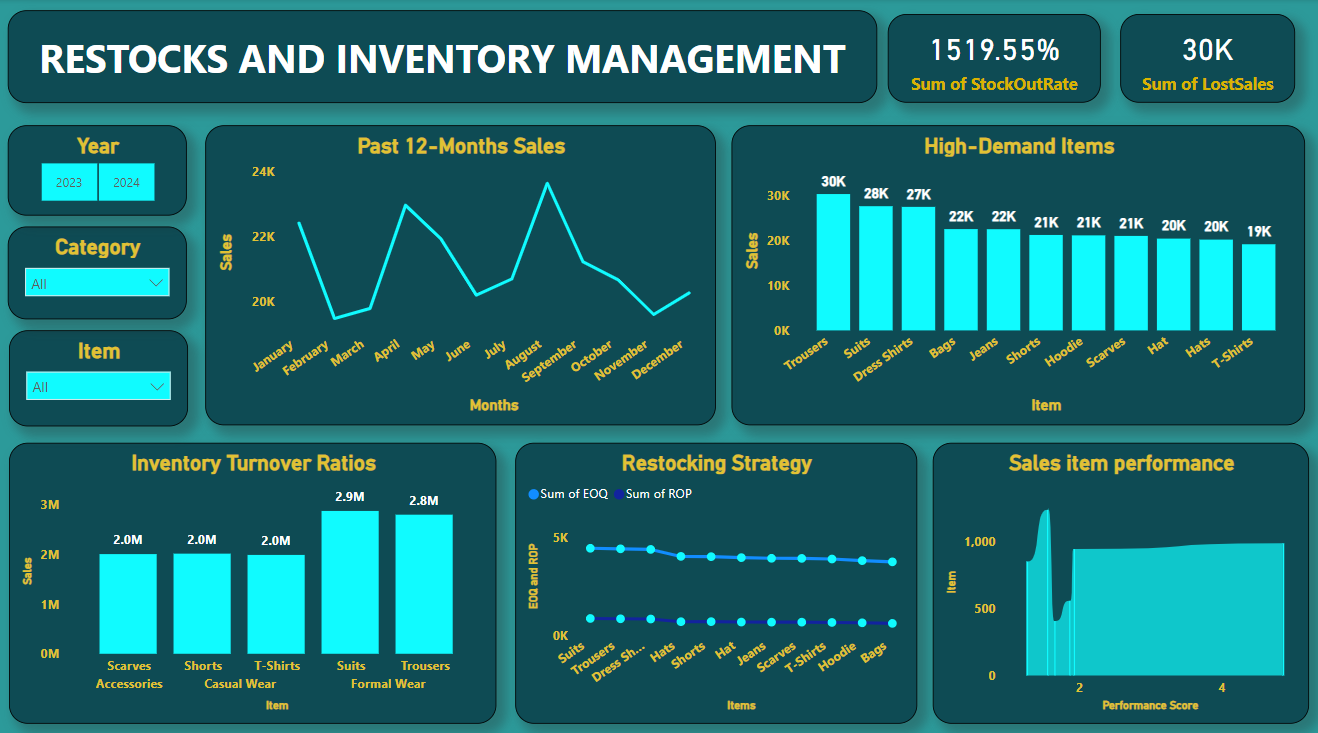

The dashboard page shown, as its layout file describes it:
{"tool":"powerbi","page":{"name":"RESTOCKS AND INVENTORY MANAGEMENT","canvas":[1280,720],"ordinal":0},"visuals":[{"type":"textbox","box":[8.6,11,838.9,89.3],"z":0},{"type":"columnChart","title":"High-Demand Items","fields":{"Category":["cost_data.Item"],"Y":["Sum(sales_data.SalesQuantity)"]},"box":[706.8,122.3,553.9,289.8],"z":1000},{"type":"lineChart","title":"Past 12-Months Sales","fields":{"Category":["sales_data.Date.Variation.Date Hierarchy.Month"],"Y":["Sum(sales_data.SalesQuantity)"]},"box":[199.3,122.3,492.8,289.8],"z":2000},{"type":"card","fields":{"Values":["Sum(forecasted_demand.StockOutRate)"]},"box":[857.2,14.7,205.4,85.6],"z":3000},{"type":"card","fields":{"Values":["Sum(forecasted_demand.LostSales)"]},"box":[1082.2,14.7,168.8,85.6],"z":4000},{"type":"columnChart","title":"Inventory Turnover Ratios","fields":{"Category":["sales_data.Category","sales_data.Item"],"Y":["Sum(sales_data.InventoryTurnoverRatio)"]},"box":[9.8,428,470.8,271.5],"z":5000},{"type":"lineChart","title":"Restocking Strategy","fields":{"Category":["forecasted_demand.Item"],"Y":["Sum(forecasted_demand.EOQ)","Sum(forecasted_demand.ROP)"]},"box":[497.7,428,387.6,271.5],"z":6000},{"type":"slicer","title":"Item","fields":{"Values":["sales_data.Item"]},"box":[9.8,319.2,172.4,92.9],"z":7000},{"type":"slicer","title":"Category","fields":{"Values":["sales_data.Category"]},"box":[8.6,220.1,172.4,89.3],"z":8000},{"type":"slicer","title":"Year","fields":{"Values":["forecasted_demand.Date.Variation.Date Hierarchy.Year"]},"box":[8.6,122.3,172.4,86.8],"z":9000},{"type":"ribbonChart","title":"Sales item performance","fields":{"Category":["supplier_data.PerformanceScore"],"Y":["CountNonNull(sales_data.Item)"]},"box":[901.2,428,363.2,271.5],"z":11000}]}

Visuals, with their boxes in screenshot pixels (x1, y1, x2, y2), scaled from the page's 1280x720 canvas onto the 1318x733 screenshot:
textbox: crop(9, 11, 873, 102)
"High-Demand Items" columnChart: crop(728, 125, 1298, 420)
"Past 12-Months Sales" lineChart: crop(205, 125, 713, 420)
card - Sum(forecasted_demand.StockOutRate): crop(883, 15, 1094, 102)
card - Sum(forecasted_demand.LostSales): crop(1114, 15, 1288, 102)
"Inventory Turnover Ratios" columnChart: crop(10, 436, 495, 712)
"Restocking Strategy" lineChart: crop(512, 436, 912, 712)
"Item" slicer: crop(10, 325, 188, 420)
"Category" slicer: crop(9, 224, 186, 315)
"Year" slicer: crop(9, 125, 186, 213)
"Sales item performance" ribbonChart: crop(928, 436, 1302, 712)
